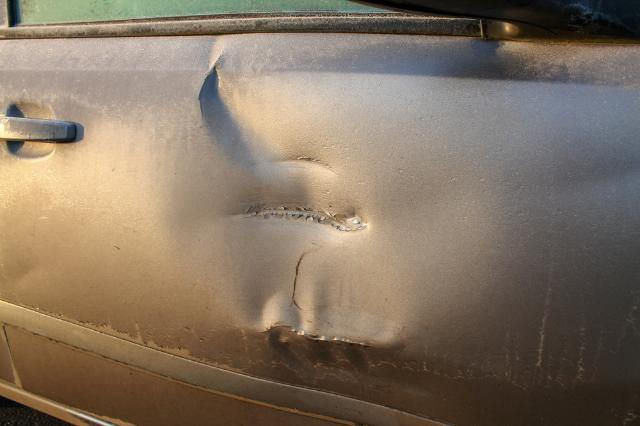dent: (171, 61, 397, 373)
